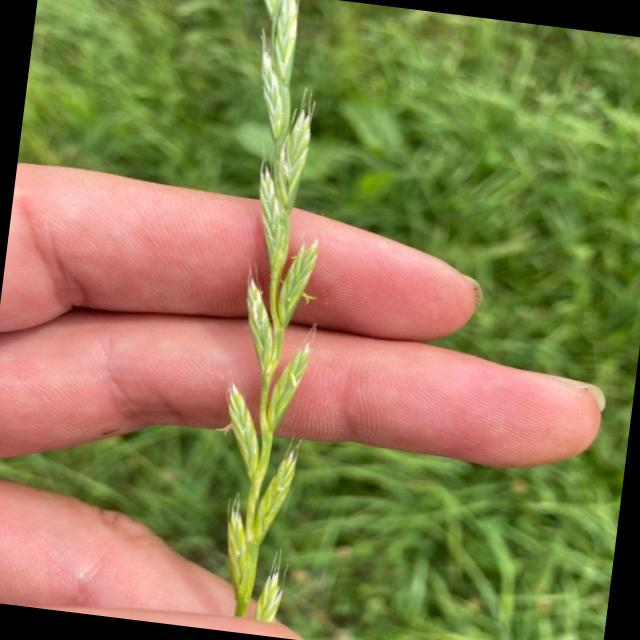Lolium: (181, 0, 362, 625)
